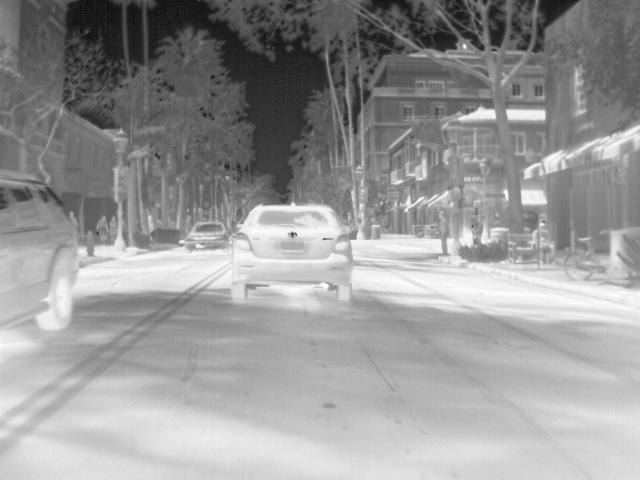car: (227, 202, 356, 302), (0, 168, 79, 331), (183, 220, 228, 252)
person: (530, 222, 557, 264), (436, 208, 449, 257), (469, 213, 483, 246), (94, 215, 109, 242), (108, 215, 117, 240), (491, 212, 502, 227)
